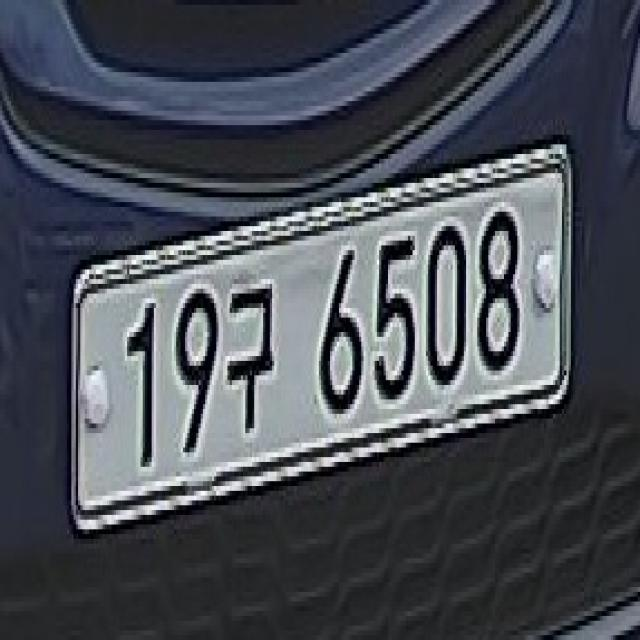0: (419, 207, 471, 404)
1: (120, 294, 168, 481)
5: (372, 217, 422, 409)
6: (315, 236, 370, 428)
8: (471, 197, 526, 385)
9: (169, 274, 223, 472)
gu: (223, 264, 285, 448)
license_plate: (67, 134, 580, 548)
